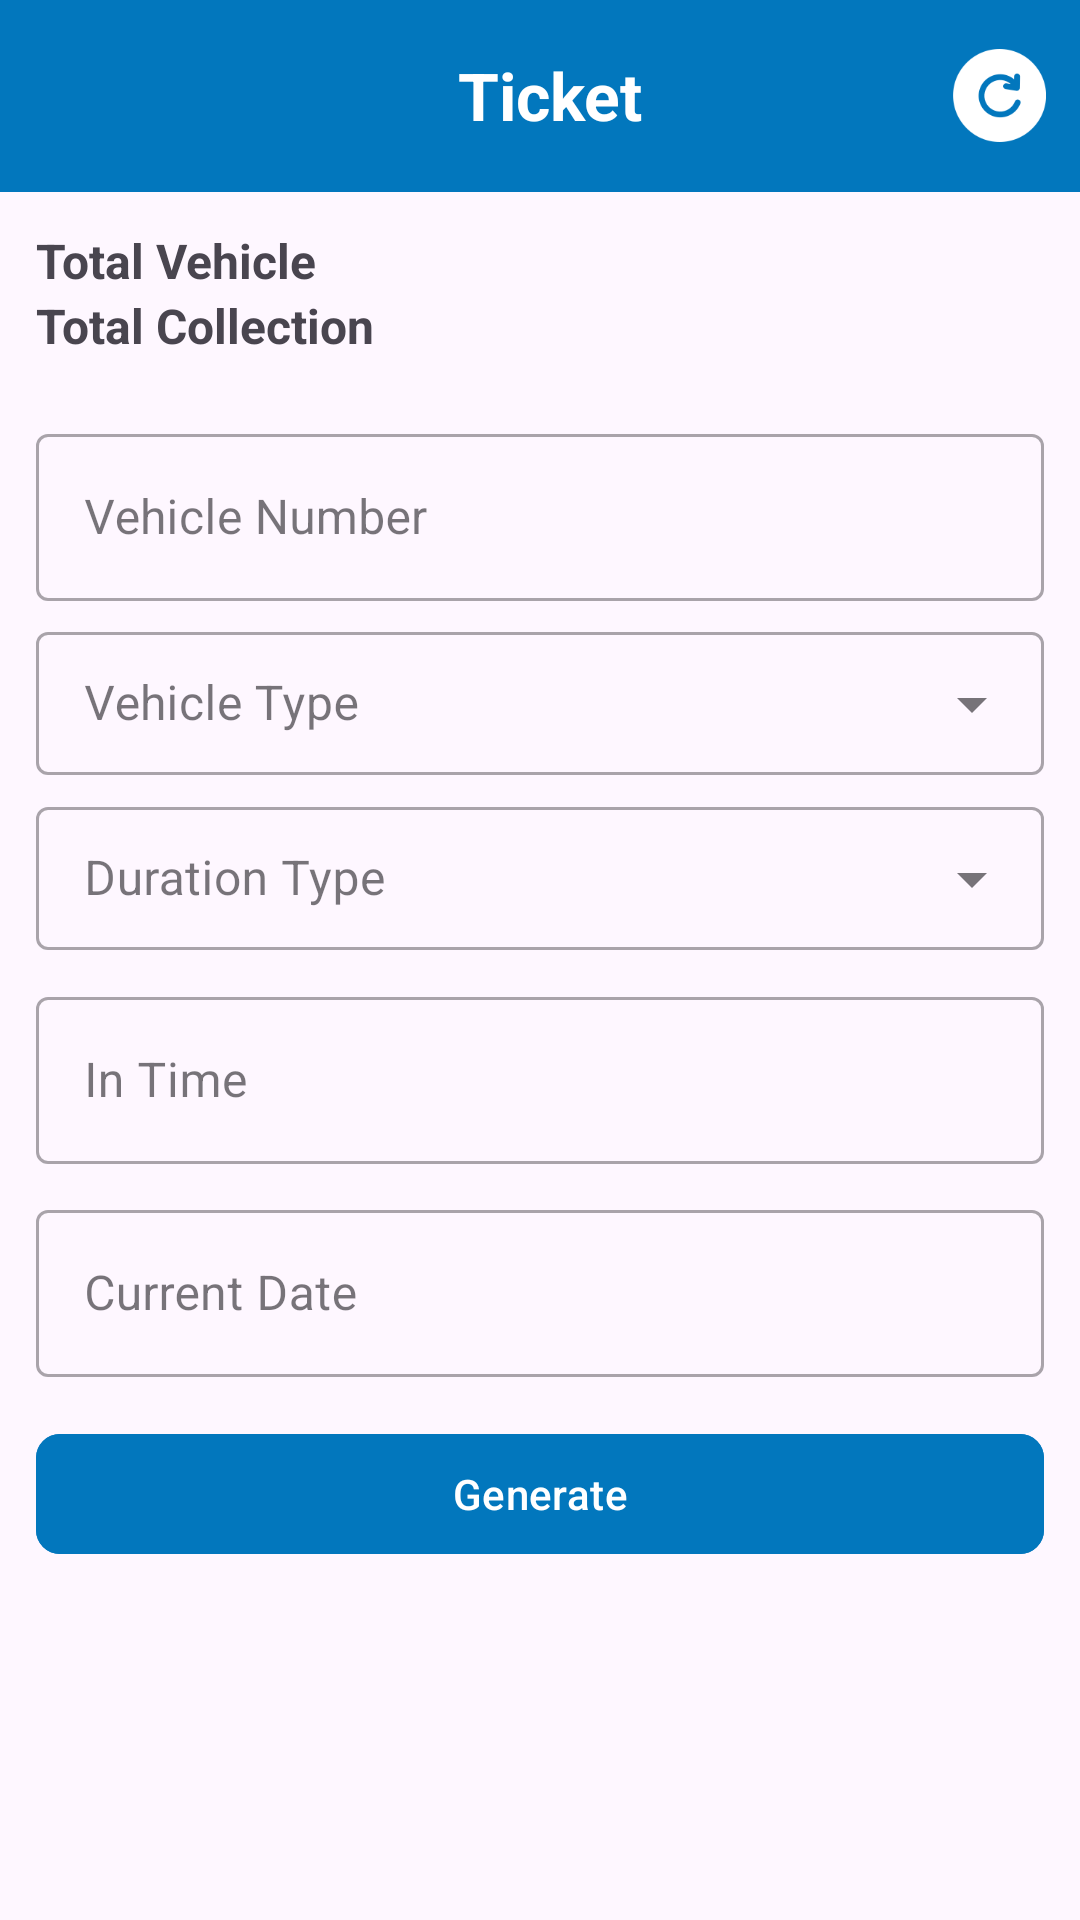

Named icons in this screenshot (1080w x 1920h) and their centers, point (x, y):
reload: point (999, 95)
